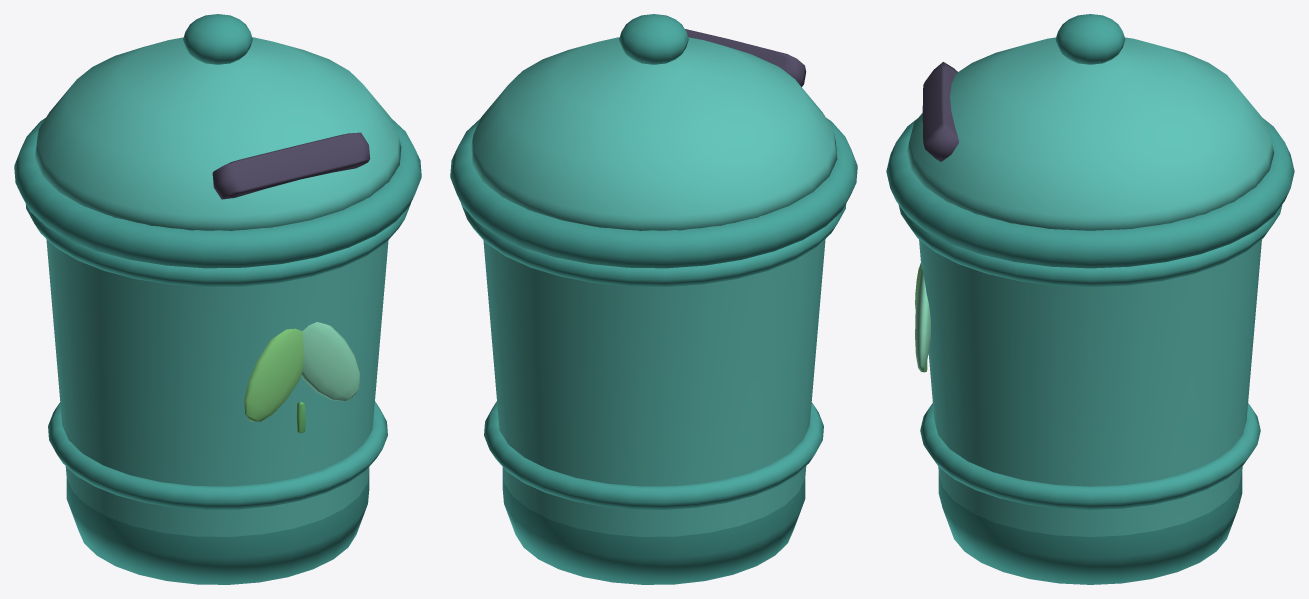
File: bin.glb
3 renders of one model, left to right at view 1: azimuth 30°, elevation 25°; view 2: azimuth 150°, elevation 25°; view 3: azimuth 270°, elevation 25°, orthographic.
Visible parts, largest first — view 1: bin; view 2: bin; view 3: bin.
Boxes of the visible parts, x1,y1,x2,y2 form: bin: (14, 14, 421, 584); bin: (450, 14, 857, 584); bin: (886, 14, 1294, 584).
Size of the model in its own units: 0.7 by 0.96 by 0.7.
Materials: 1 (1 with a texture image).
